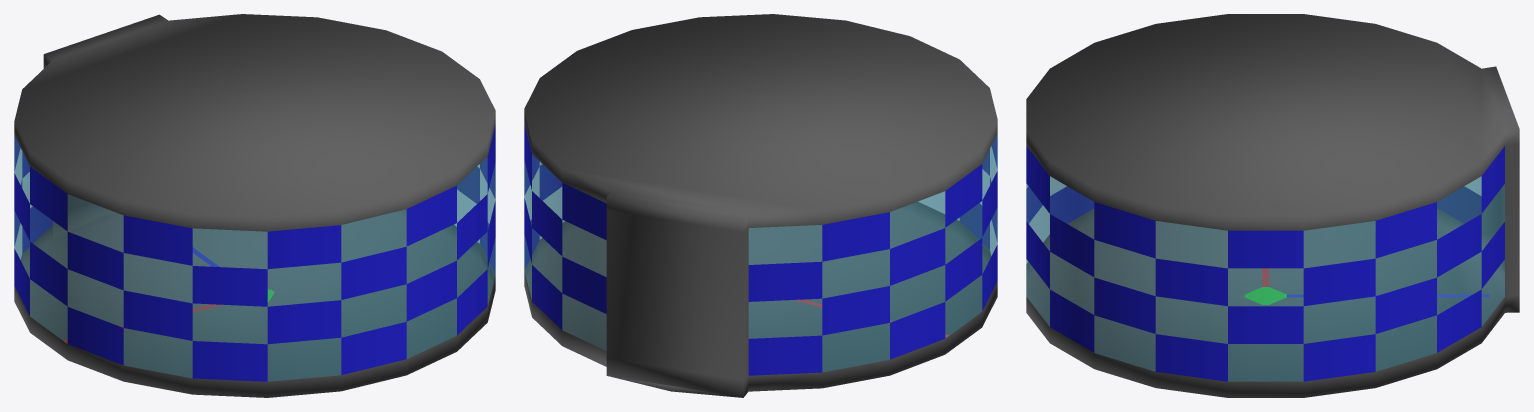
Rendered from CAVE2.ScreenMask.fbx.
3 renders of one model, left to right at view 1: azimuth 30°, elevation 25°; view 2: azimuth 150°, elevation 25°; view 3: azimuth 270°, elevation 25°, orthographic. The views are drawn at different scales.
Visible parts, largest first — view 1: CAVE2-Outline, CAVE2-Screen; view 2: CAVE2-Outline, CAVE2-Screen; view 3: CAVE2-Outline, CAVE2-Screen.
Part boxes in pixels (<box>): CAVE2-Outline: <box>14,14,495,397</box>; CAVE2-Screen: <box>14,125,495,381</box>; CAVE2-Outline: <box>524,14,997,397</box>; CAVE2-Screen: <box>524,124,997,375</box>; CAVE2-Outline: <box>1026,14,1519,397</box>; CAVE2-Screen: <box>1026,146,1504,381</box>.
Size of the model in its own units: 6.65 by 2.82 by 6.85.
